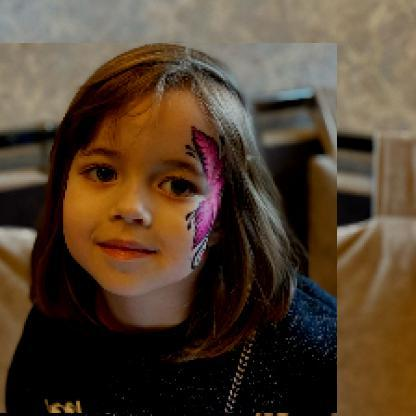child: (1, 44, 339, 415)
